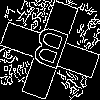B: (25, 25, 72, 79)
